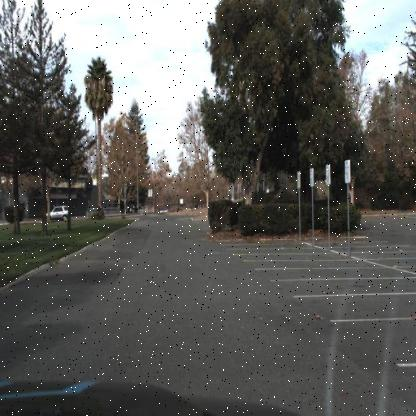car: (44, 204, 70, 223)
